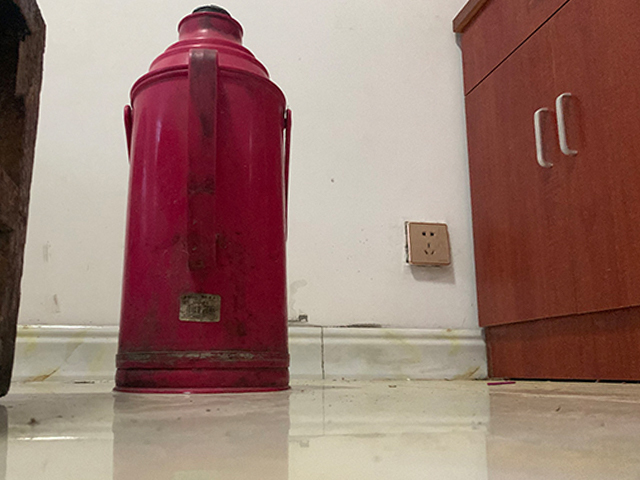cabinet: (452, 1, 640, 383)
